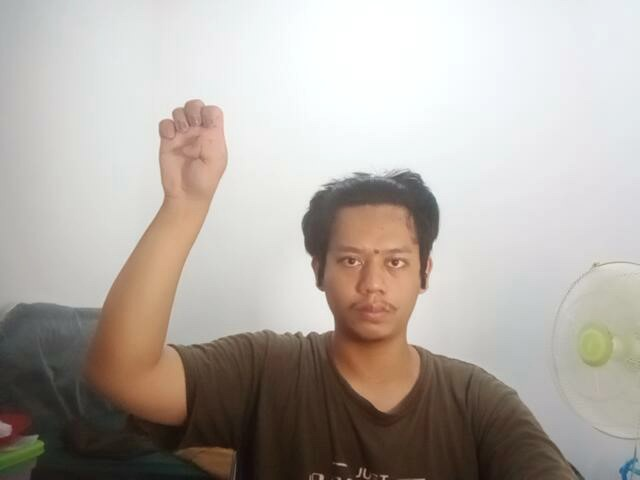E: (145, 89, 247, 215)
